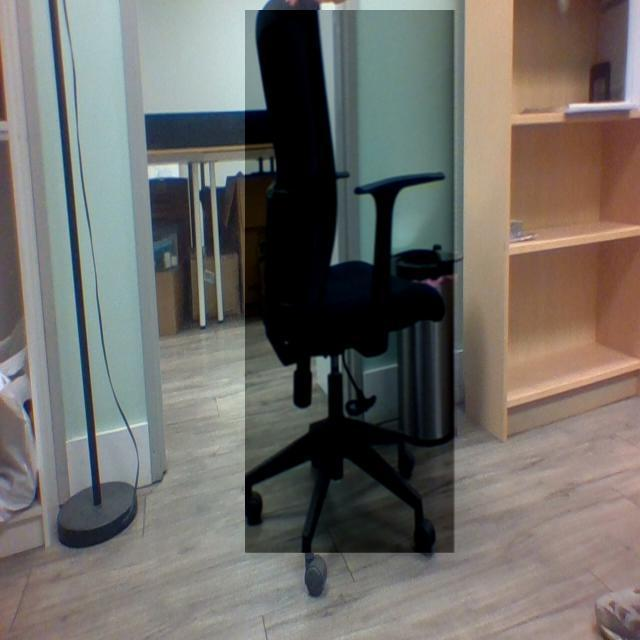chair: (237, 0, 461, 595)
